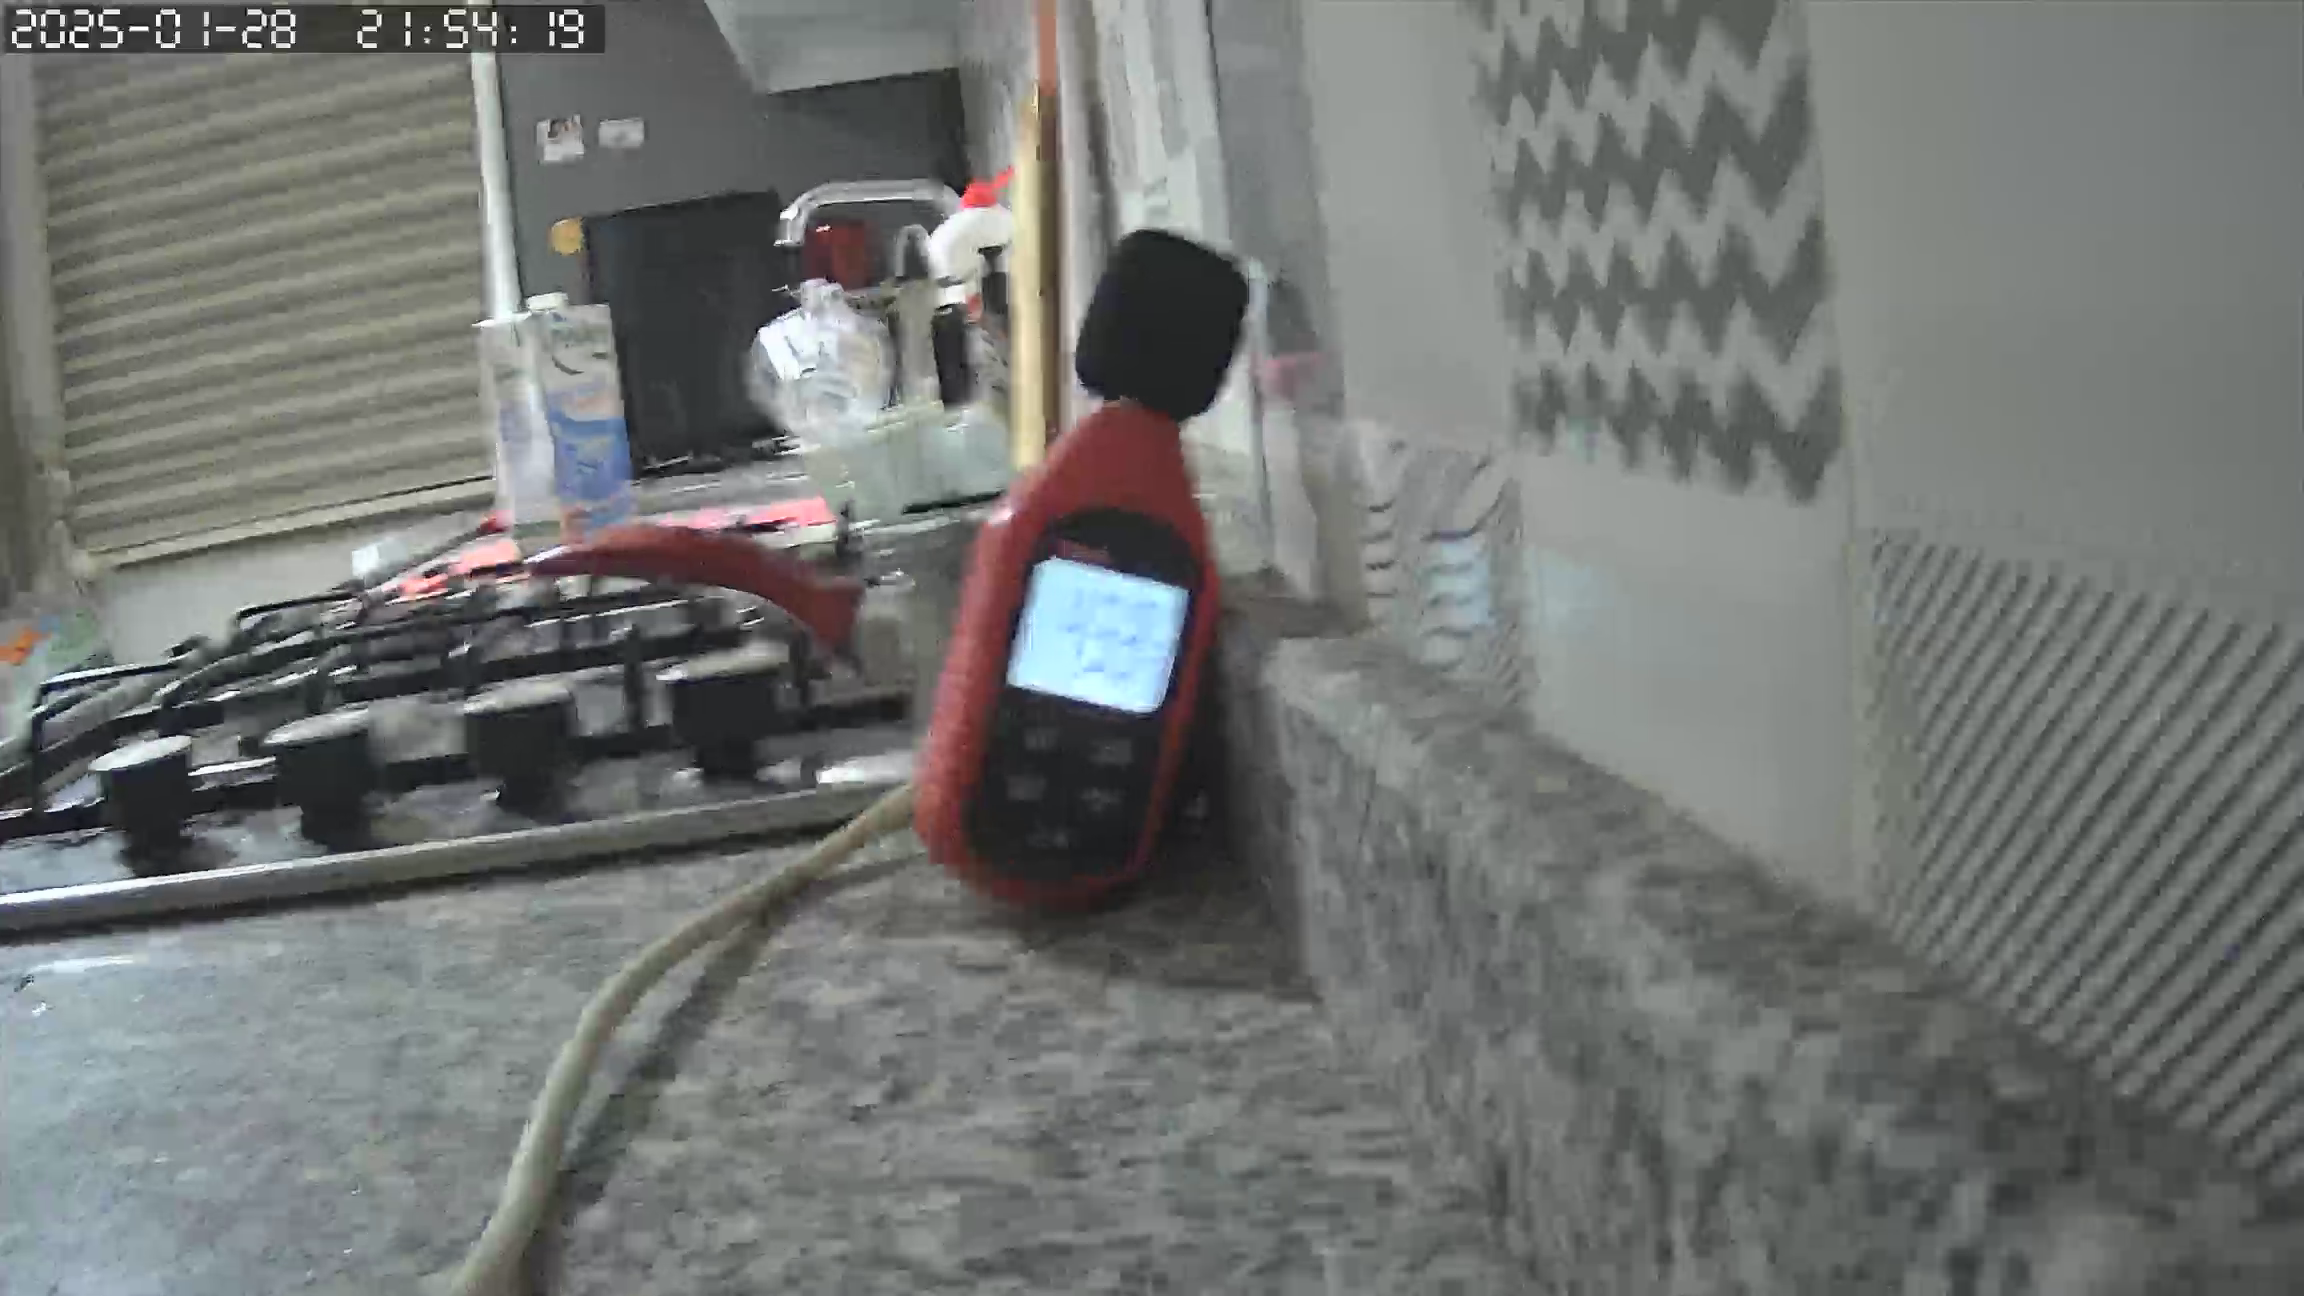screen: (1006, 559, 1185, 715)
